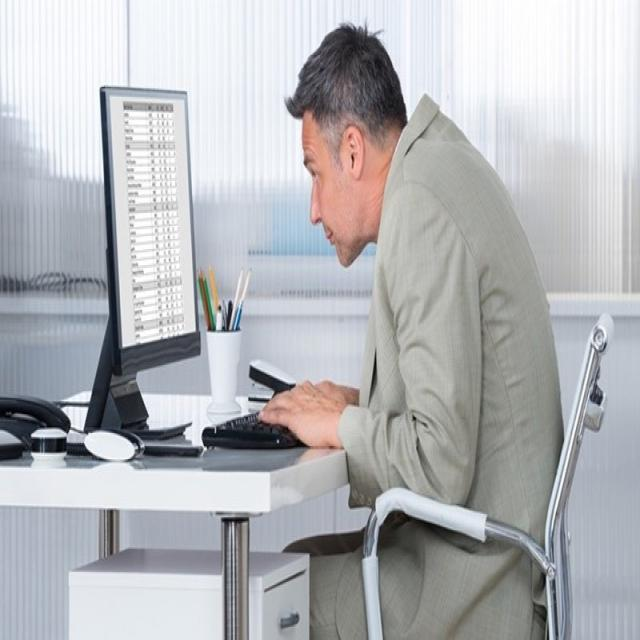desktop-person: (80, 14, 583, 640)
